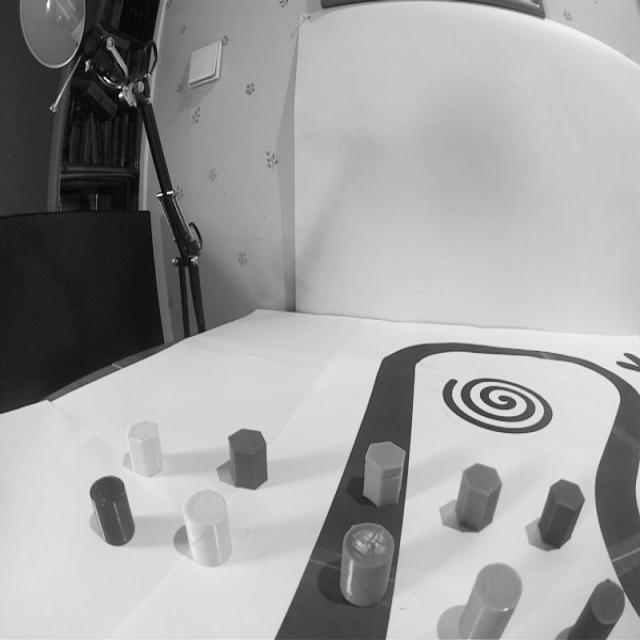cylinder: (459, 562, 523, 639), (342, 521, 394, 611), (183, 488, 232, 568), (565, 578, 625, 638), (89, 475, 135, 548)
hexagon: (537, 480, 586, 549), (456, 464, 504, 533), (362, 442, 406, 508), (227, 429, 268, 491), (126, 420, 163, 478)
lineStraight: (270, 455, 412, 640)
nest: (442, 372, 554, 438)
